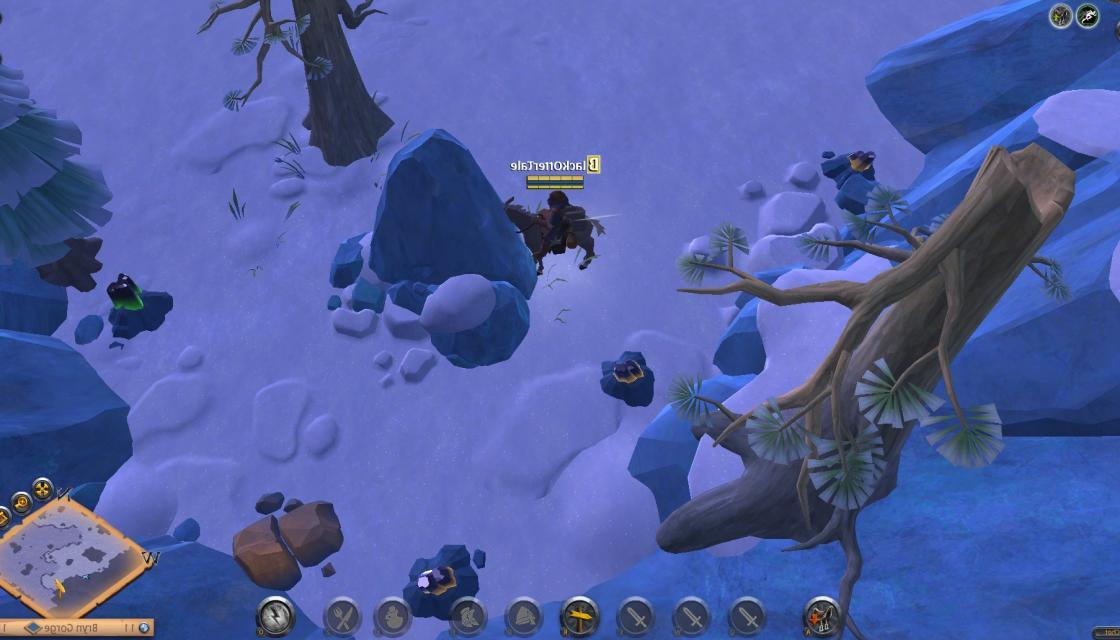copperore: (398, 539, 482, 622), (596, 348, 656, 408), (821, 145, 881, 193)
limestone: (224, 493, 350, 591)
tinore: (102, 266, 172, 338)
